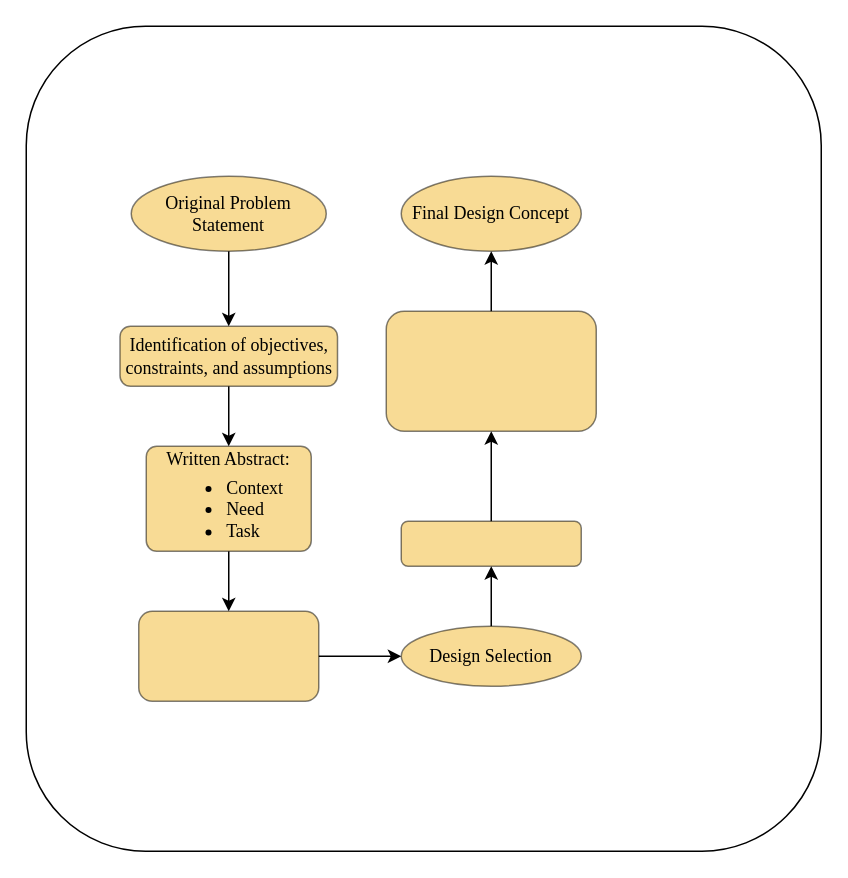
This 848x878 diagram has some shape labels left out. The centre of each missing label's shape, as x and y in pixels:
"Calculations: Spring Constant Motor Force Displacement of spring" belongs at pixel 490 370.
"Function identification with enumeration method" belongs at pixel 228 655.
"Technical Dawing" belongs at pixel 490 543.
